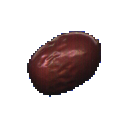gd: (20, 16, 109, 107)
